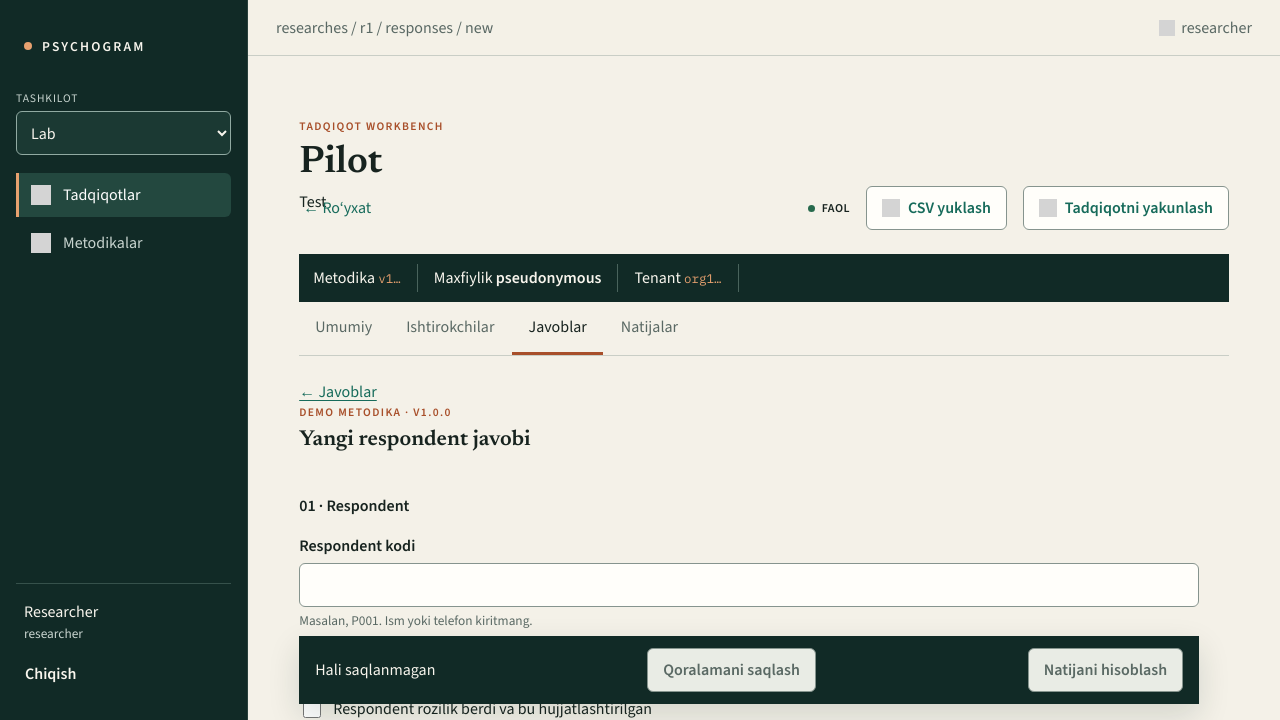
Test: response form › refuses a code that already belongs to a respondent with answers and links to it
This screenshot has width=1280, height=720.
In the field labelled "Respondent kodi": (749, 585) [299,563,1199,607], type "P001"
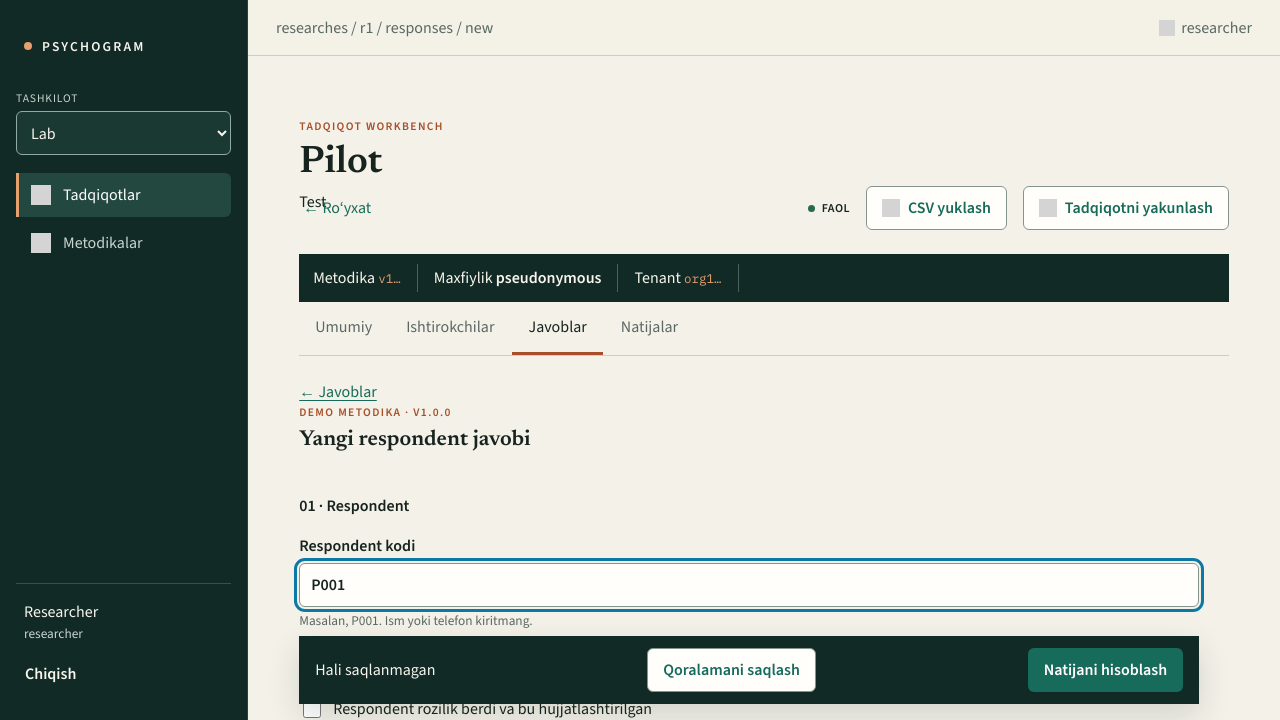
Click the checkbox labelled "Respondent rozilik berdi va bu hujjatlashtirilgan": (312, 709) [303,700,321,718]
(page scrolled)
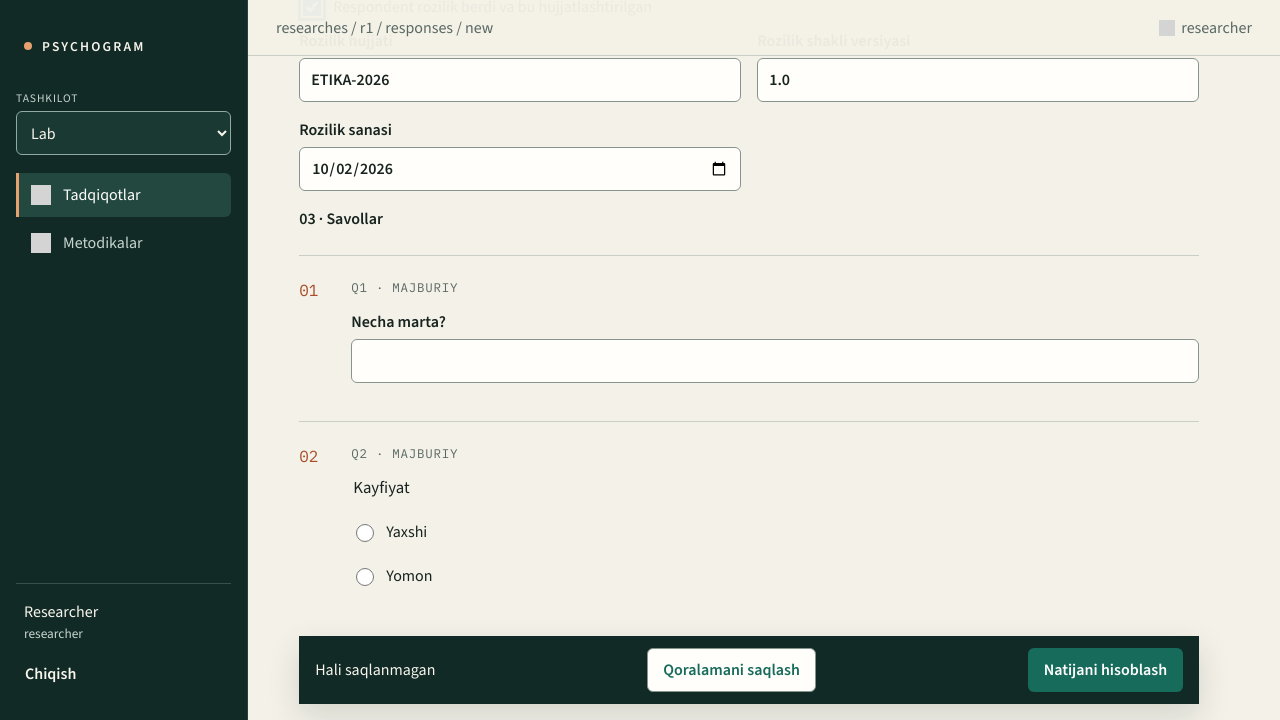
In the field labelled "Necha marta?": (775, 361) [351,339,1199,383], type "2"
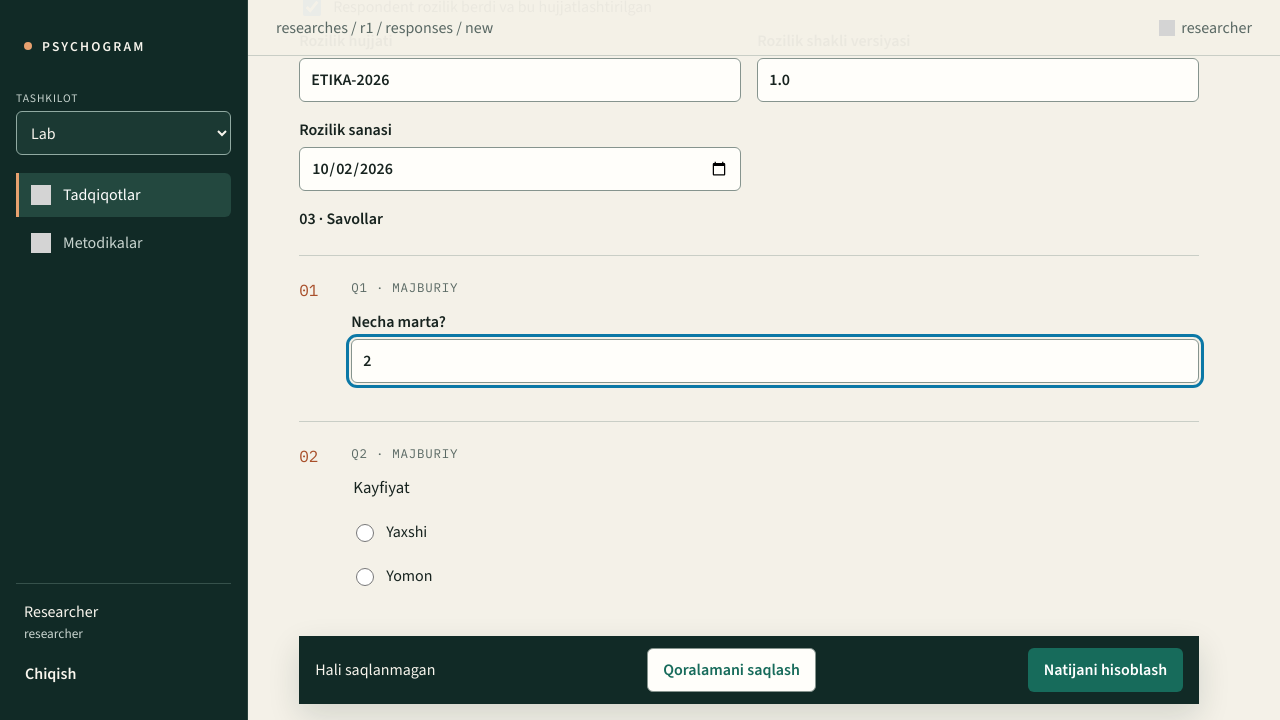
Click the radio button labelled "Yaxshi": (365, 534) [356,524,374,542]
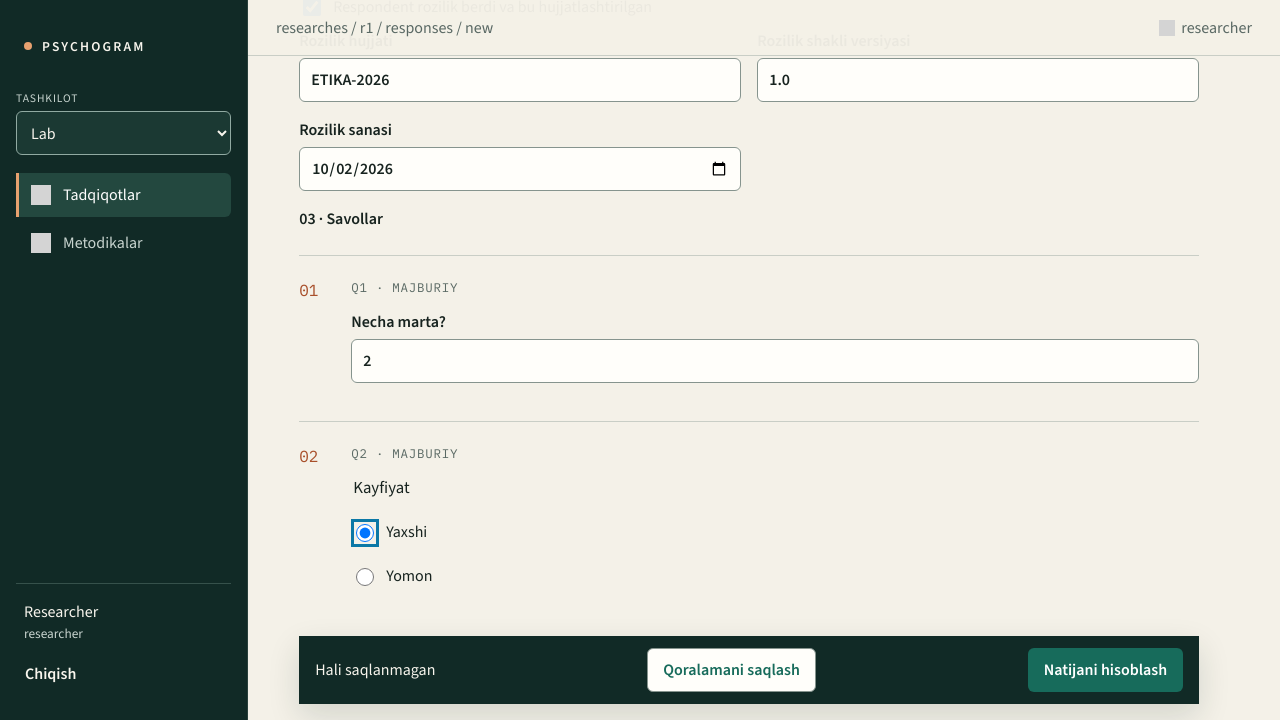
Click the button "Qoralamani saqlash": (732, 670) [647,648,816,692]
(page scrolled)
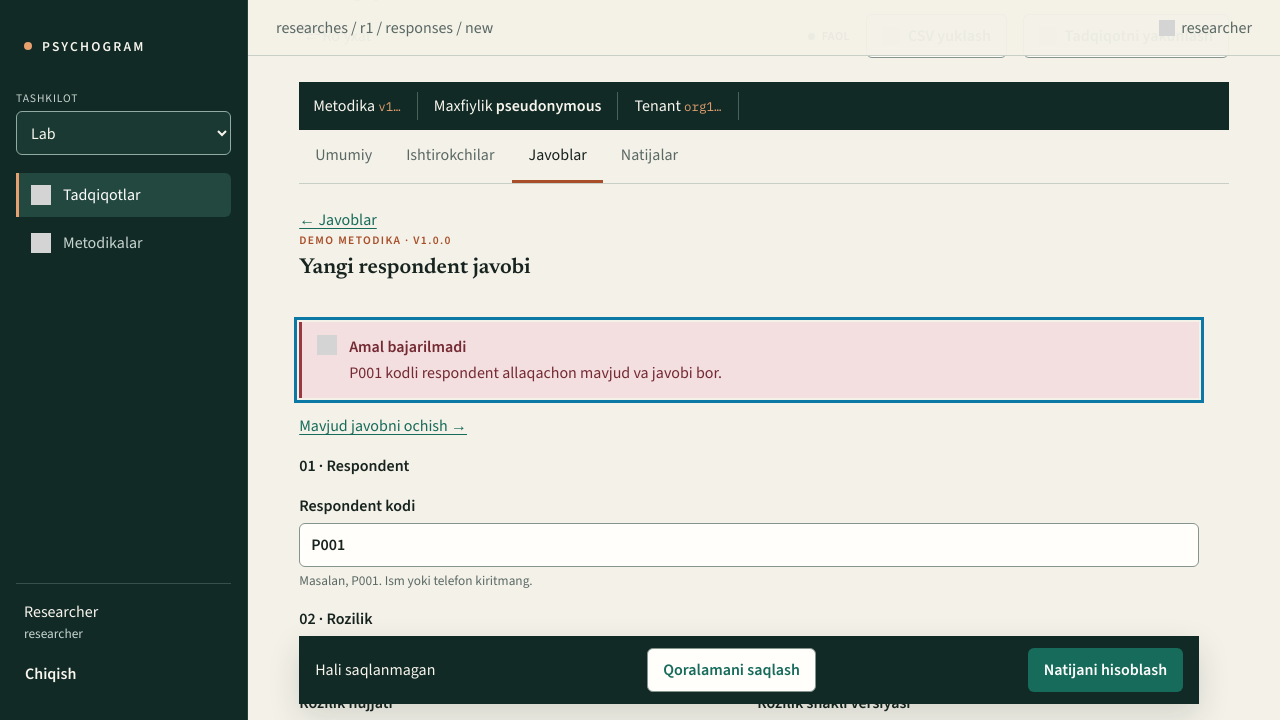
Result: the text "P001 kodli respondent allaqachon mavjud va javobi bor." is shown at [349,361,722,385]
